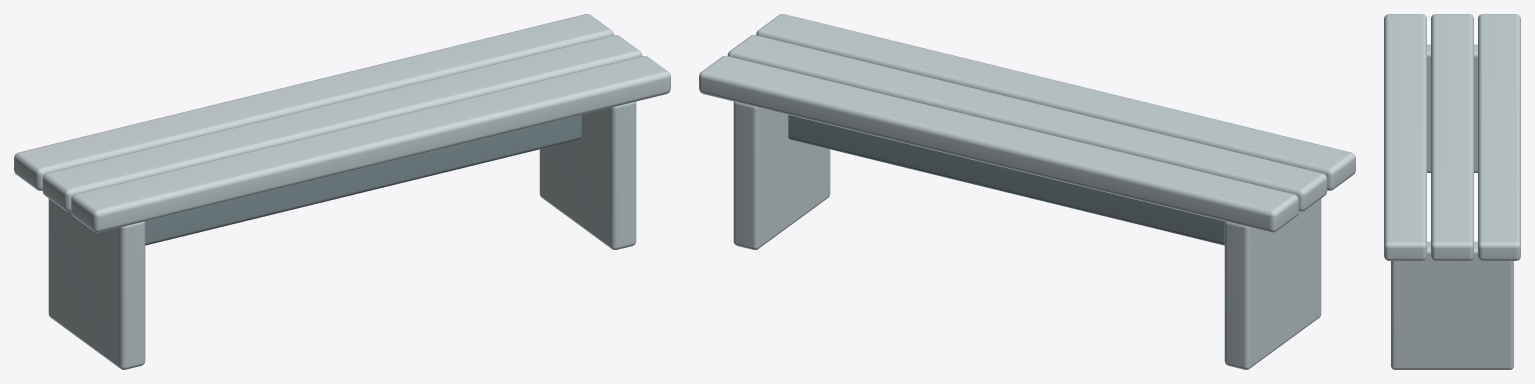
File: bench.glb
3 renders of one model, left to right at view 1: azimuth 30°, elevation 25°; view 2: azimuth 150°, elevation 25°; view 3: azimuth 270°, elevation 25°, orthographic. The views are drawn at different scales.
Visible parts, largest first — view 1: seat_slat_3, seat_slat_1, seat_slat_2, trestle_-1, under_seat_brace, trestle_1; view 2: seat_slat_1, seat_slat_3, seat_slat_2, trestle_-1, under_seat_brace, trestle_1; view 3: trestle_1, seat_slat_1, seat_slat_2, seat_slat_3, trestle_-1.
Part boxes in pixels (box(x1,y1,x2,y2)): seat_slat_3: box(71, 56, 670, 232); seat_slat_1: box(14, 14, 613, 190); seat_slat_2: box(42, 35, 642, 211); trestle_-1: box(48, 199, 145, 369); under_seat_brace: box(145, 115, 581, 245); trestle_1: box(539, 101, 636, 249); seat_slat_1: box(699, 56, 1298, 232); seat_slat_3: box(756, 14, 1355, 190); seat_slat_2: box(727, 35, 1327, 211); trestle_-1: box(1224, 199, 1321, 369); under_seat_brace: box(788, 115, 1224, 245); trestle_1: box(733, 101, 830, 249); trestle_1: box(1391, 241, 1513, 369); seat_slat_1: box(1478, 14, 1520, 260); seat_slat_2: box(1431, 14, 1473, 260); seat_slat_3: box(1384, 14, 1426, 260); trestle_-1: box(1427, 44, 1477, 172).
Size of the model in its own units: 1.6 by 0.45 by 0.4.
